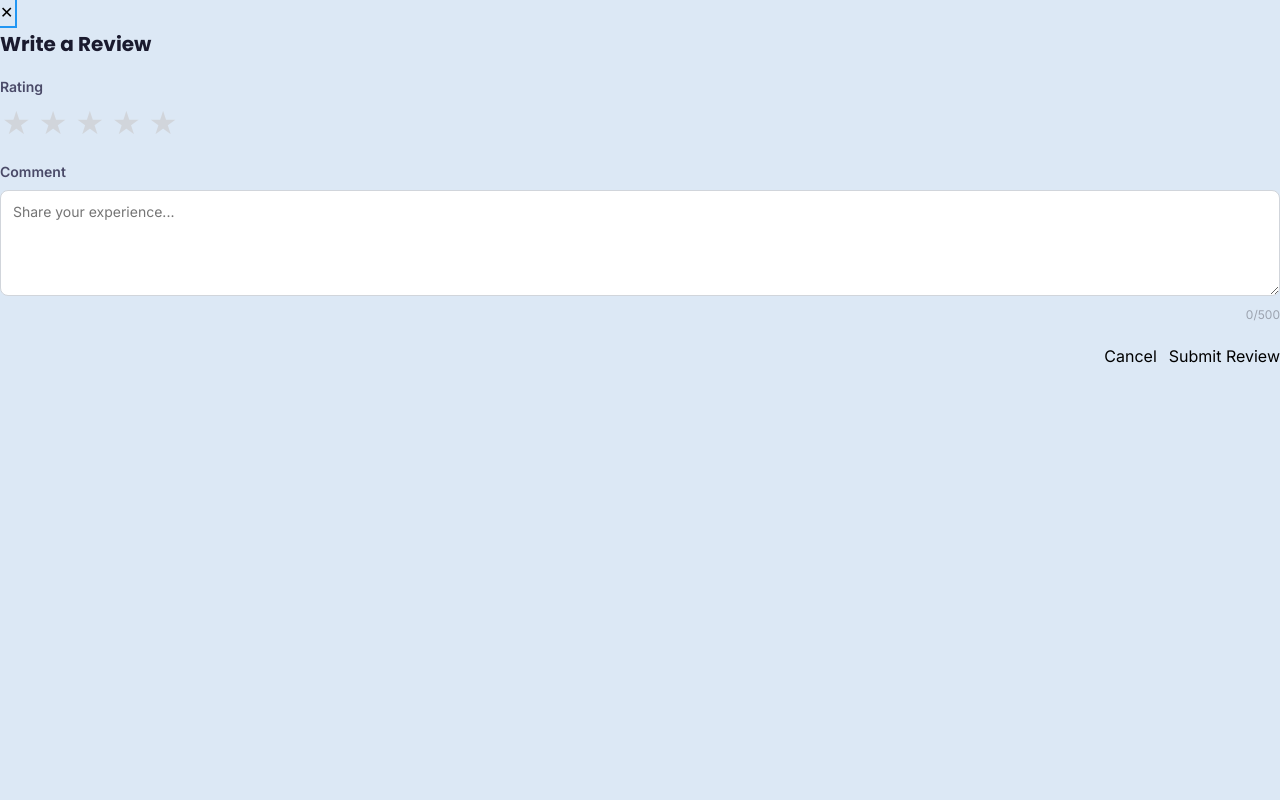
AddReviewModal › shows success state after successful submit
This screenshot has width=1280, height=800.
Click the button with test id "add-review-modal-star-5": {"x": 163, "y": 123} [147,105,180,141]
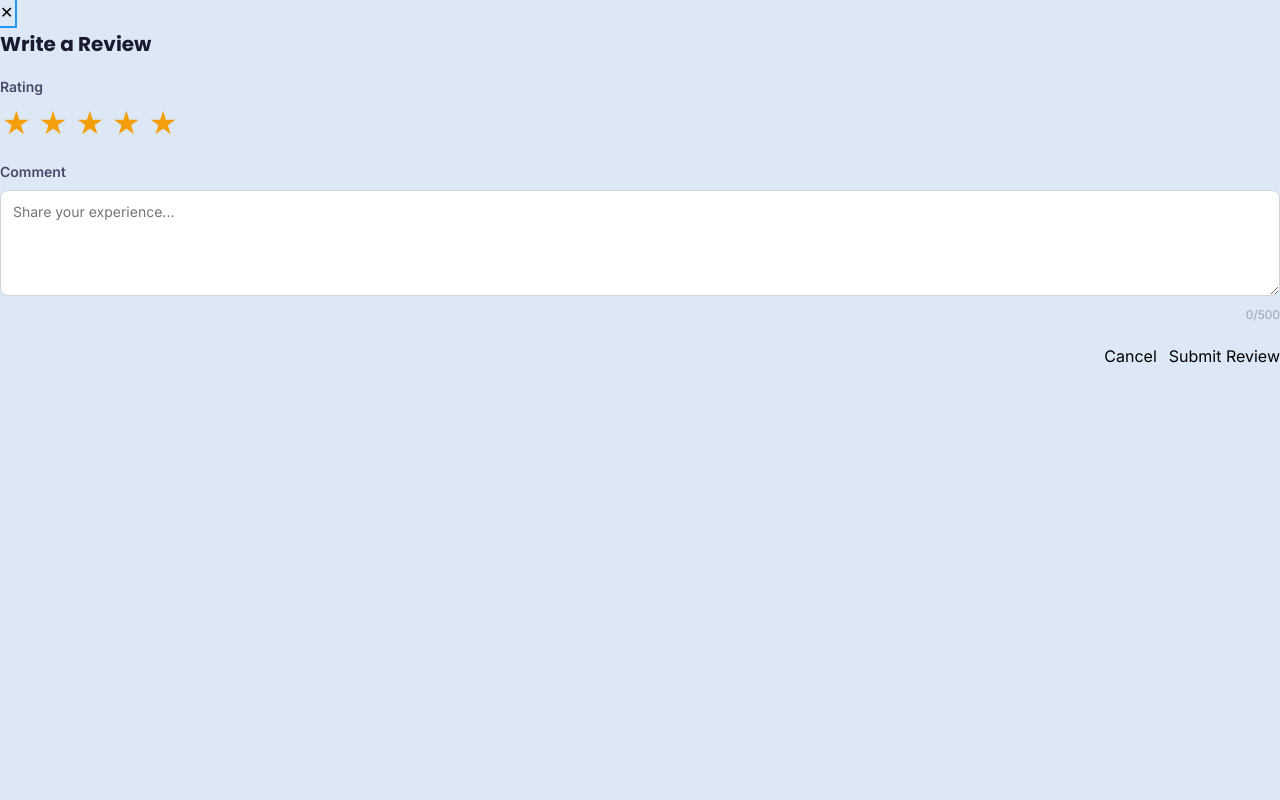
In the text box with test id "add-review-modal-textarea": {"x": 640, "y": 243} [0,190,1279,296], type "Excellent!"
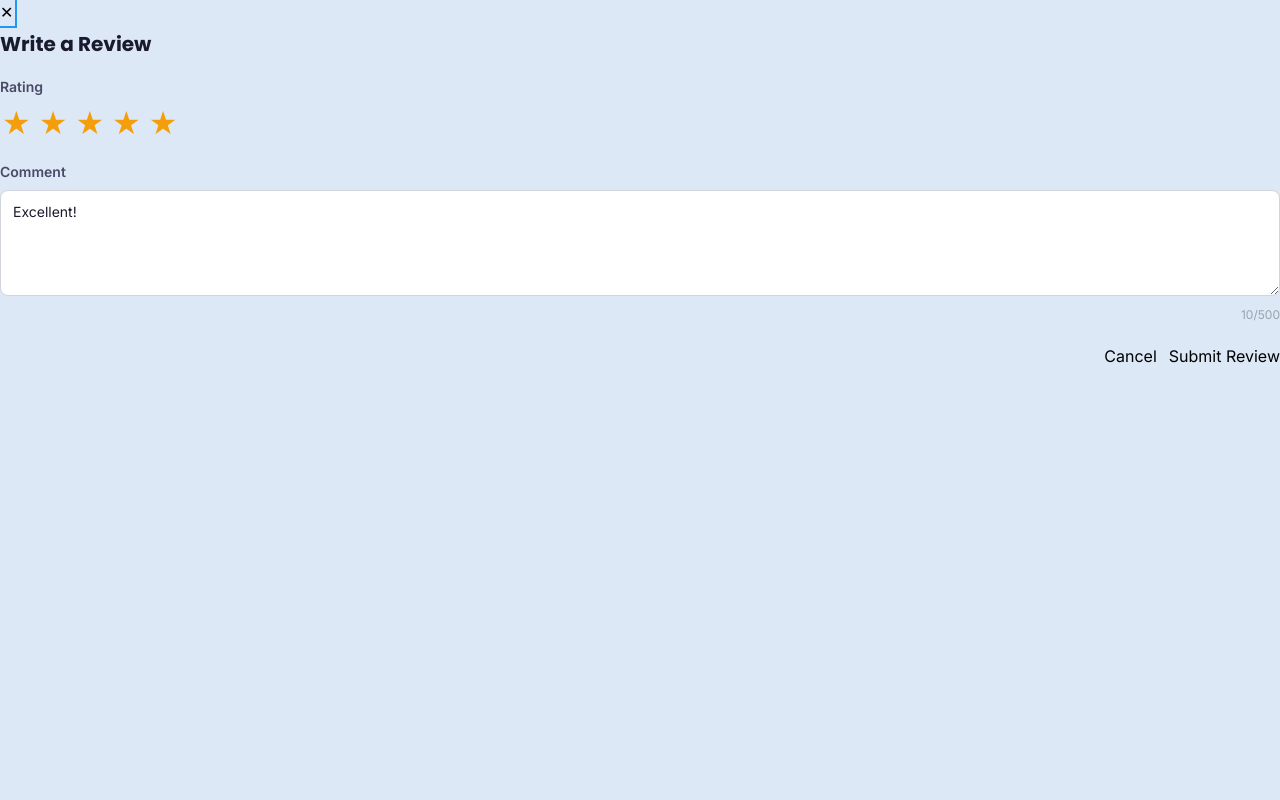
Click the button with test id "add-review-modal-submit": {"x": 1224, "y": 356} [1169,344,1279,368]
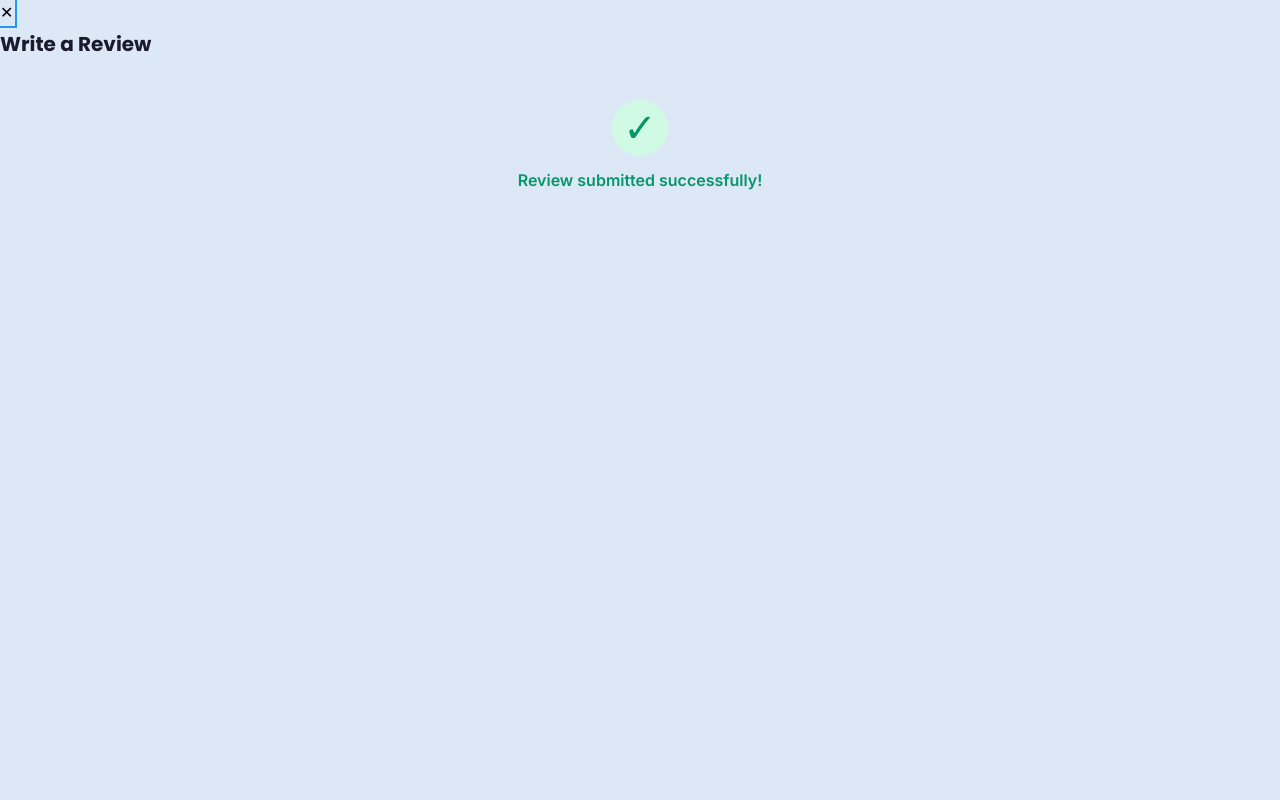
Result: the element with test id "add-review-modal-success" is shown at [518,100,762,190]
